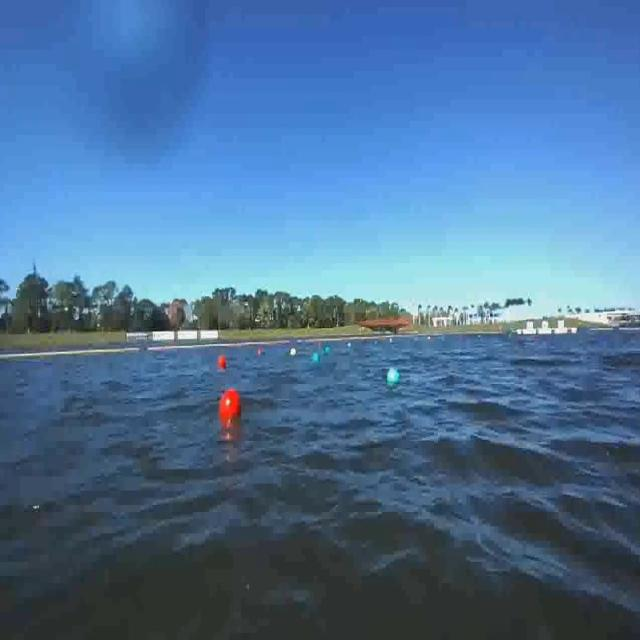green-buoy: (386, 368, 400, 388), (312, 351, 318, 366)
red-buoy: (219, 390, 241, 430), (218, 354, 227, 370)
yellow-buoy: (290, 347, 298, 359)
